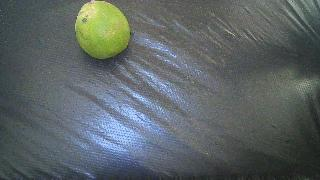DESECHO: (75, 0, 130, 59)
